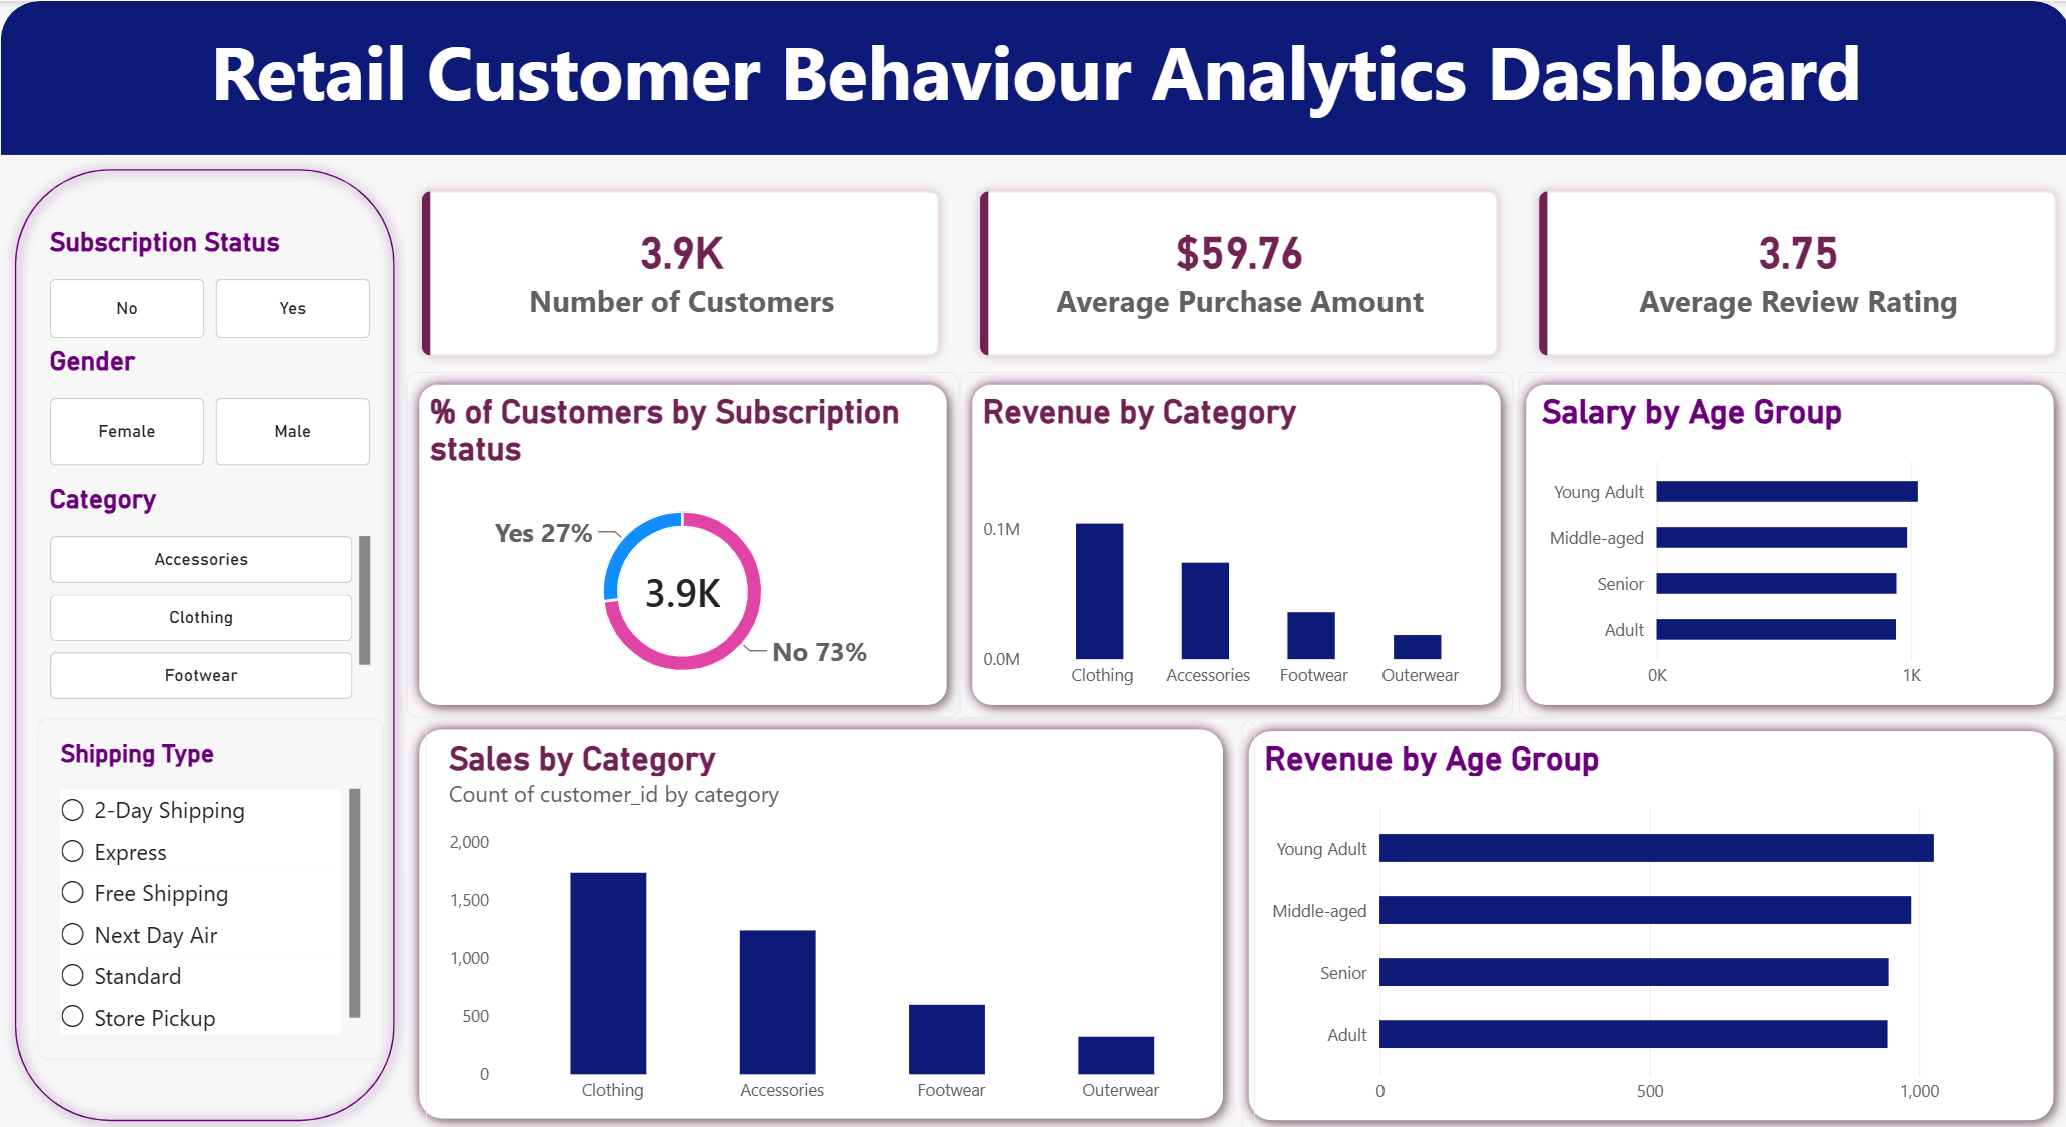

Layout of this report page (visuals, bound fields, positions):
{"tool":"powerbi","page":{"name":"Page 1","canvas":[1500,820],"ordinal":0},"visuals":[{"type":"shape","box":[1.7,0,1498.3,111.7],"z":0},{"type":"shape","box":[895.7,520,600,300],"z":1000},{"type":"shape","box":[295.7,518.6,600,300],"z":2000},{"type":"cardVisual","fields":{"Data":["public customer.Number of Customers","public customer.Average Purchase Amount","public customer.Average Review Rating"]},"box":[295.7,127.1,1204.3,141.4],"z":3000},{"type":"textbox","box":[1.7,13.3,1498.3,73.3],"z":4000},{"type":"shape","box":[295.7,268.6,400,250],"z":5000},{"type":"donutChart","title":"% of Customers by Subscription status","fields":{"Category":["public customer.subscription_status"],"Y":["CountNonNull(public customer.customer_id)"]},"box":[295.7,268.6,400,250],"z":6000},{"type":"shape","box":[695.7,268.6,400,250],"z":7000},{"type":"shape","box":[1095.7,268.6,400,250],"z":8000},{"type":"clusteredColumnChart","title":"Revenue by Category","fields":{"Y":["Sum(public customer.purchase_amount)"],"Category":["public customer.category"]},"box":[695.7,268.6,400,250],"z":9000},{"type":"shape","box":[2.9,112.9,292.9,707.1],"z":10000},{"type":"advancedSlicerVisual","title":"Subscription Status","fields":{"Values":["public customer.subscription_status"]},"box":[37.1,162.9,232.9,81.4],"z":11000},{"type":"advancedSlicerVisual","title":"Gender","fields":{"Values":["public customer.gender"]},"box":[37.1,250,232.9,87.1],"z":12000},{"type":"listSlicer","title":"Shipping Type","fields":{"Values":["public customer.shipping_type"]},"box":[27.8,520,251.1,246.7],"z":13000},{"type":"clusteredColumnChart","title":"Sales by Category","fields":{"Category":["public customer.category"],"Y":["CountNonNull(public customer.customer_id)"]},"box":[308.6,520,600,300],"z":14000},{"type":"clusteredBarChart","title":"Revenue by Age Group","fields":{"Y":["CountNonNull(public customer.purchase_amount)"],"Category":["public customer.age_group"]},"box":[900,520,600,300],"z":15000},{"type":"clusteredBarChart","title":"Salary by Age Group","fields":{"Y":["CountNonNull(public customer.customer_id)"],"Category":["public customer.age_group"]},"box":[1100,268.6,400,250],"z":16000},{"type":"advancedSlicerVisual","title":"Category","fields":{"Values":["public customer.category"]},"box":[37.1,350,232.9,158.6],"z":17000}]}

Visuals, with their boxes in screenshot pixels (x1, y1, x2, y2), scaled from the page's 1500x820 canvas onto the 2066x1127 screenshot:
shape: {"x1": 2, "y1": 0, "x2": 2065, "y2": 154}
shape: {"x1": 1234, "y1": 715, "x2": 2060, "y2": 1126}
shape: {"x1": 407, "y1": 713, "x2": 1234, "y2": 1125}
cardVisual - public customer.Number of Customers x public customer.Average Purchase Amount: {"x1": 407, "y1": 175, "x2": 2065, "y2": 369}
textbox: {"x1": 2, "y1": 18, "x2": 2065, "y2": 119}
shape: {"x1": 407, "y1": 369, "x2": 958, "y2": 713}
"% of Customers by Subscription status" donutChart: {"x1": 407, "y1": 369, "x2": 958, "y2": 713}
shape: {"x1": 958, "y1": 369, "x2": 1509, "y2": 713}
shape: {"x1": 1509, "y1": 369, "x2": 2060, "y2": 713}
"Revenue by Category" clusteredColumnChart: {"x1": 958, "y1": 369, "x2": 1509, "y2": 713}
shape: {"x1": 4, "y1": 155, "x2": 407, "y2": 1126}
"Subscription Status" advancedSlicerVisual: {"x1": 51, "y1": 224, "x2": 372, "y2": 336}
"Gender" advancedSlicerVisual: {"x1": 51, "y1": 344, "x2": 372, "y2": 463}
"Shipping Type" listSlicer: {"x1": 38, "y1": 715, "x2": 384, "y2": 1054}
"Sales by Category" clusteredColumnChart: {"x1": 425, "y1": 715, "x2": 1251, "y2": 1126}
"Revenue by Age Group" clusteredBarChart: {"x1": 1240, "y1": 715, "x2": 2065, "y2": 1126}
"Salary by Age Group" clusteredBarChart: {"x1": 1515, "y1": 369, "x2": 2065, "y2": 713}
"Category" advancedSlicerVisual: {"x1": 51, "y1": 481, "x2": 372, "y2": 699}
